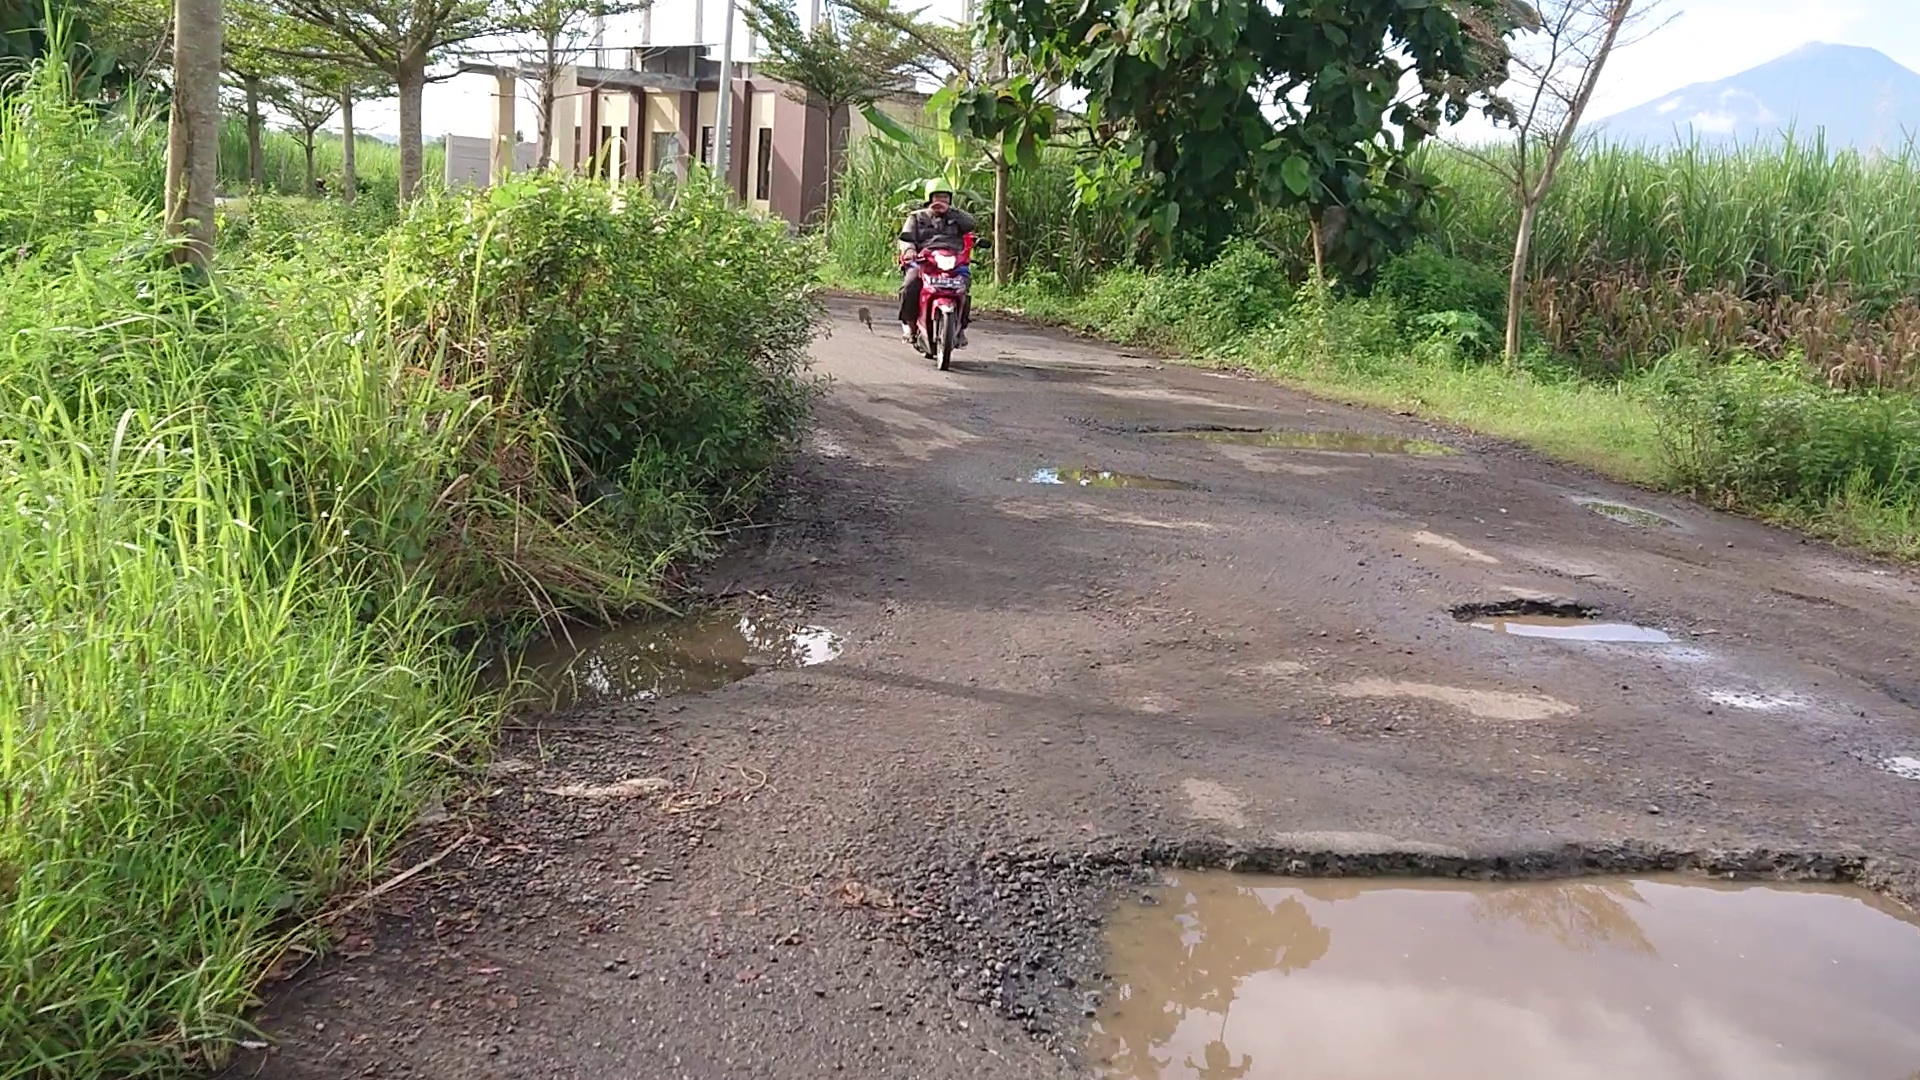Berlubang: (1106, 866, 1920, 1080), (1470, 595, 1675, 650), (1196, 417, 1443, 460)
